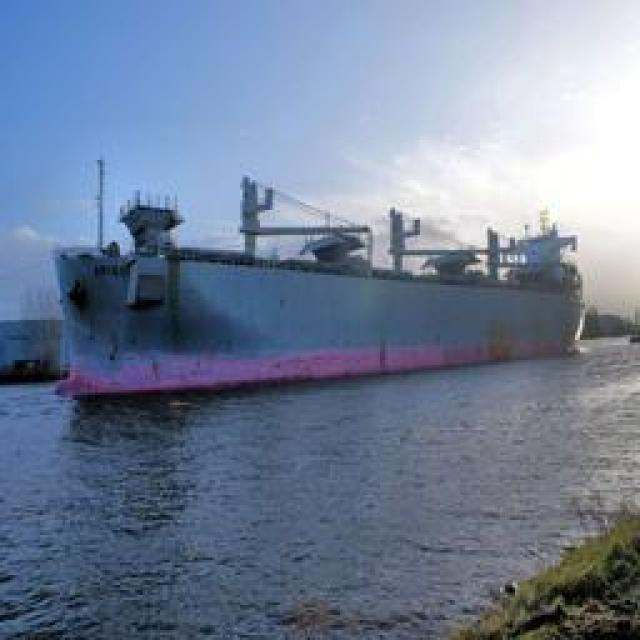ship2: (50, 158, 581, 398)
